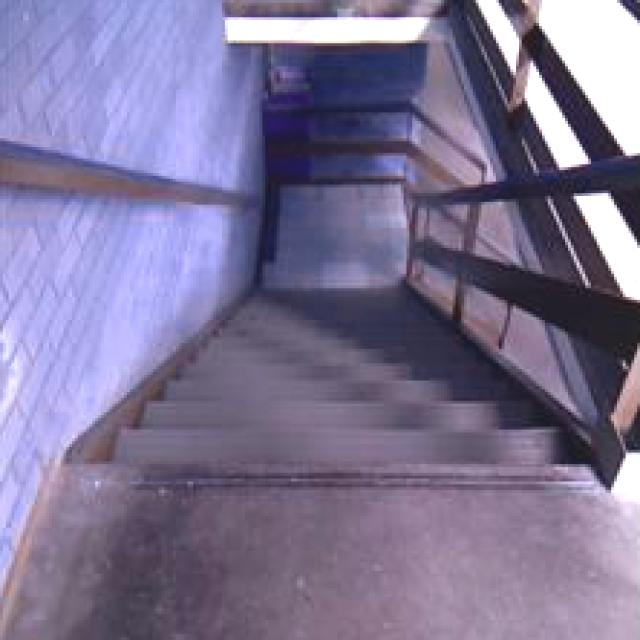downstair: (36, 373, 624, 580)
